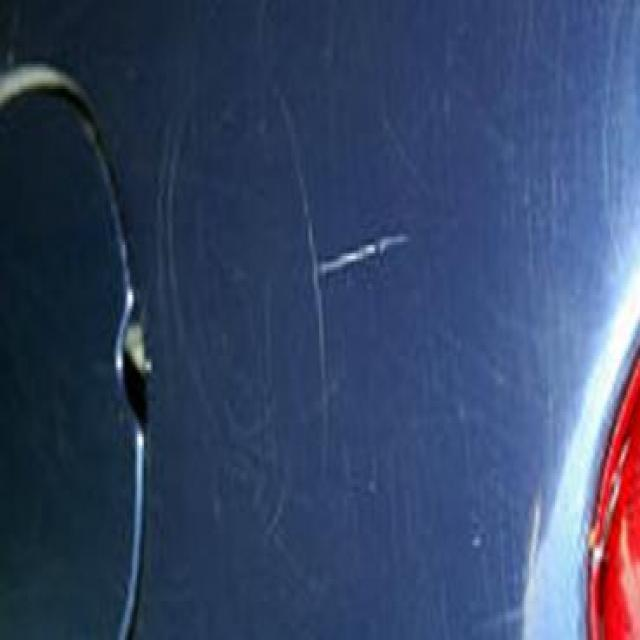scratch: (316, 221, 412, 285)
